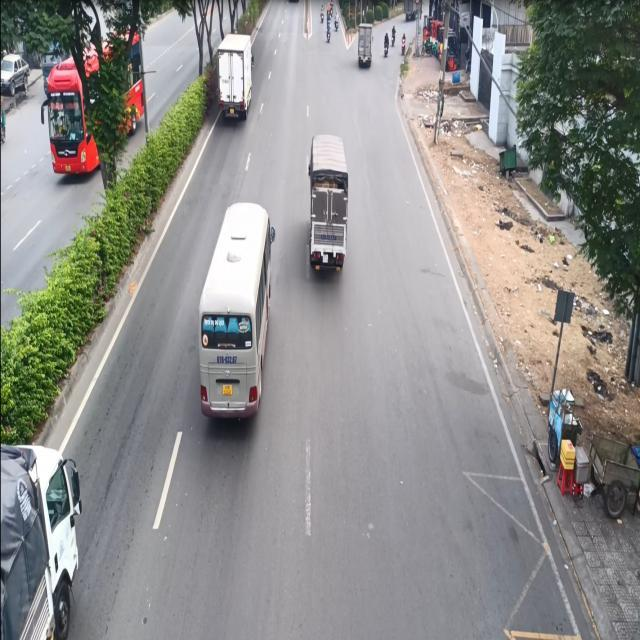bus: (39, 19, 147, 180), (197, 201, 275, 420)
truck: (0, 443, 81, 639), (307, 133, 348, 272), (215, 32, 253, 121), (357, 22, 372, 67)
